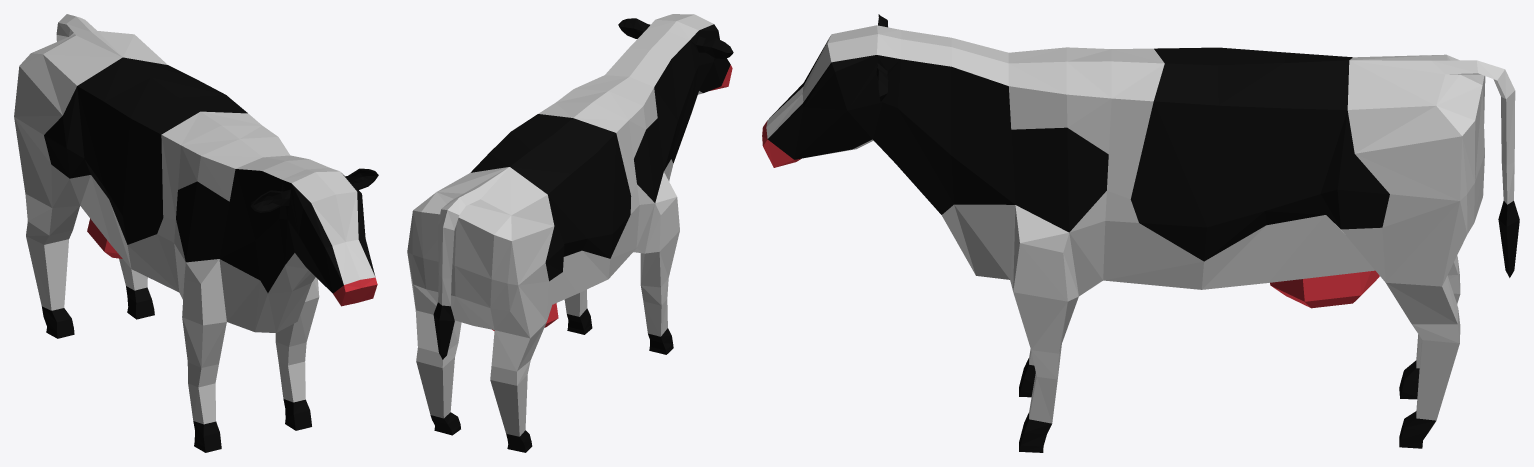
Rendered from FarmCow.glb.
3 renders of one model, left to right at view 1: azimuth 30°, elevation 25°; view 2: azimuth 150°, elevation 25°; view 3: azimuth 270°, elevation 25°, orthographic. The views are drawn at different scales.
Bounding box in the file's own units: 0.4646 × 1.06 × 1.88.
